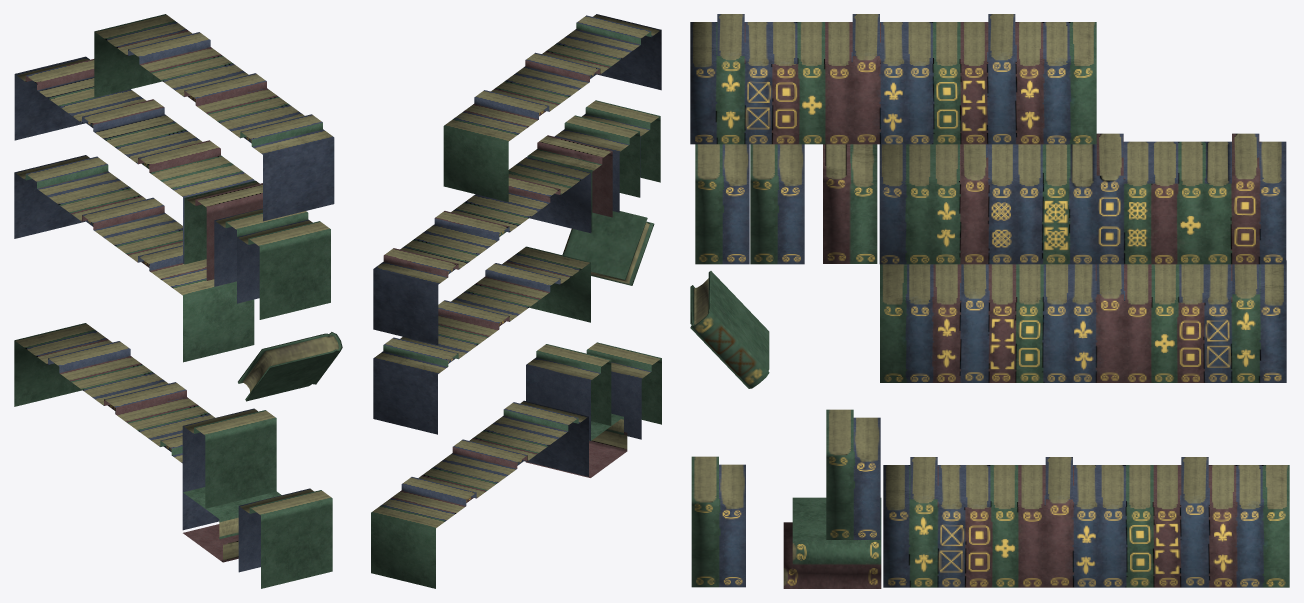
The model's file is BookCaseFill_B_01.fbx.
The picture shows the model from 3 angles, left to right: view 1: azimuth 30°, elevation 25°; view 2: azimuth 150°, elevation 25°; view 3: azimuth 270°, elevation 25°; orthographic projection. The views are drawn at different scales.
Visible parts, largest first — view 1: BookCaseFill_B_01; view 2: BookCaseFill_B_01; view 3: BookCaseFill_B_01.
Boxes of the visible parts, x1,y1,x2,y2 form: BookCaseFill_B_01: (14, 14, 342, 588); BookCaseFill_B_01: (371, 14, 661, 588); BookCaseFill_B_01: (690, 14, 1289, 588).
Bounding box in the file's own units: 29.09 × 147 × 150.
